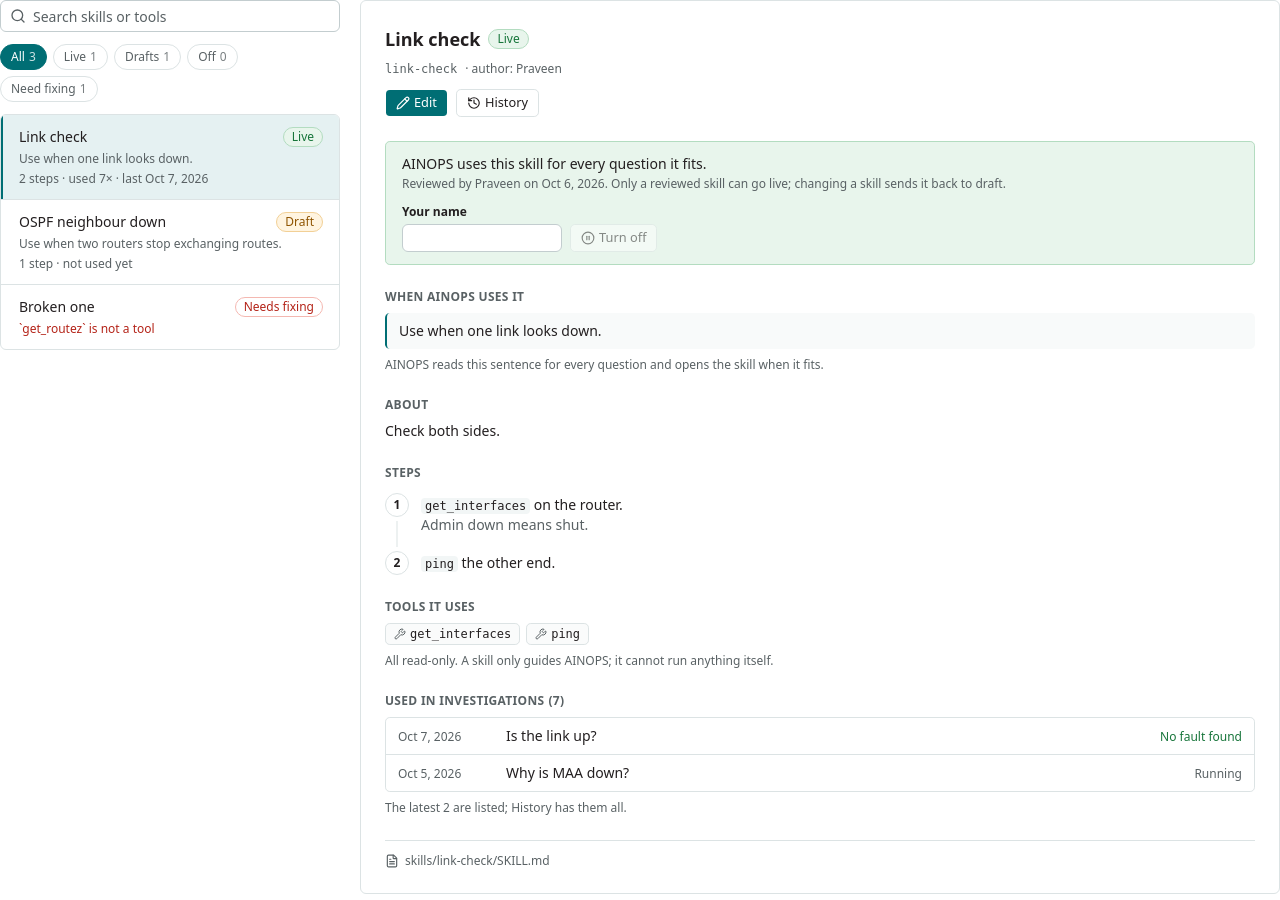
Test case: editing and history from the Skills page › History lists the replaced versions and opens one
Click the button "History".
click(497, 103)  # box [456, 89, 539, 117]
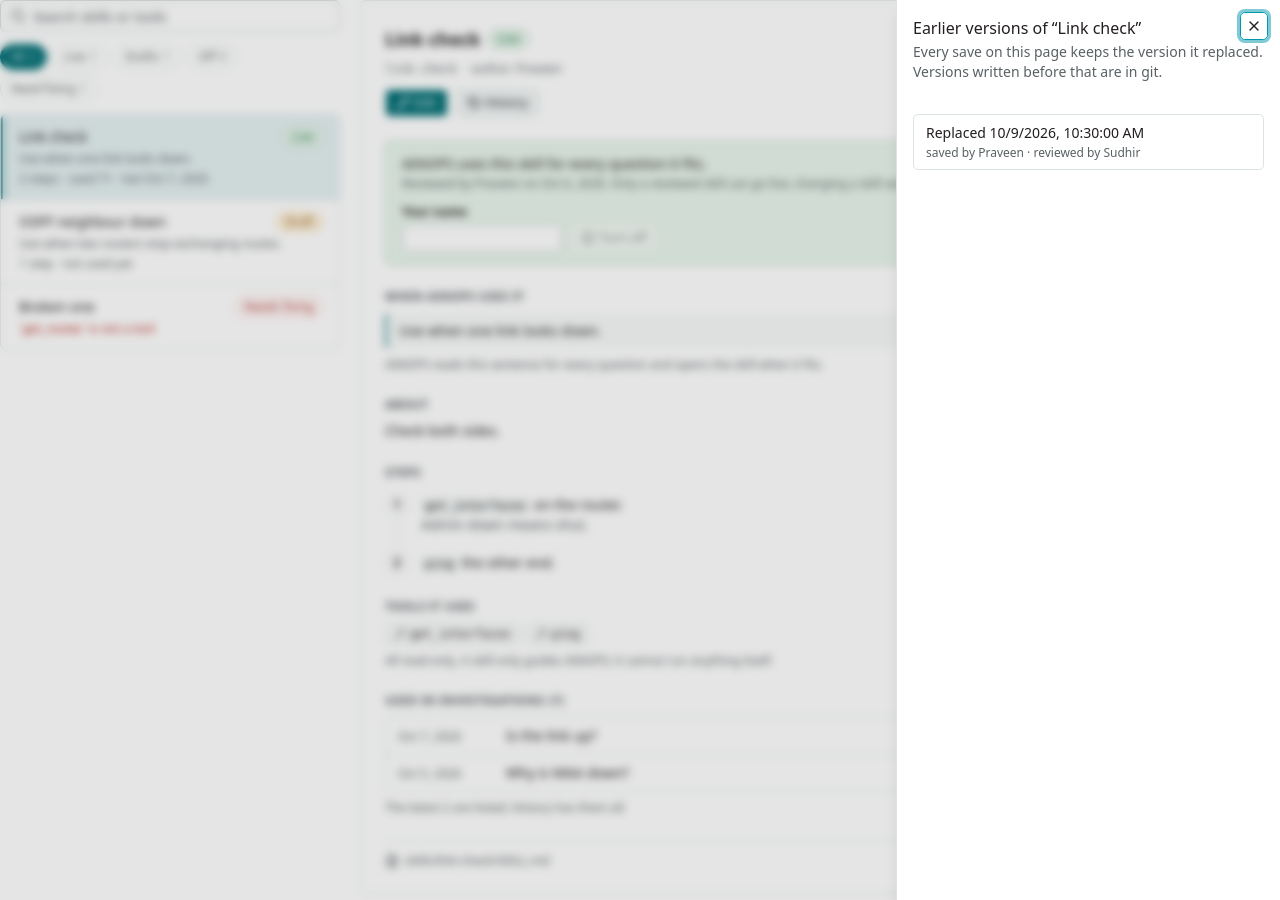
Expected: the list named "Earlier versions" shows "saved by Praveen · reviewed by Sudhir"
Click the button that starts with "Replaced".
click(1088, 142)  # box [914, 115, 1263, 169]
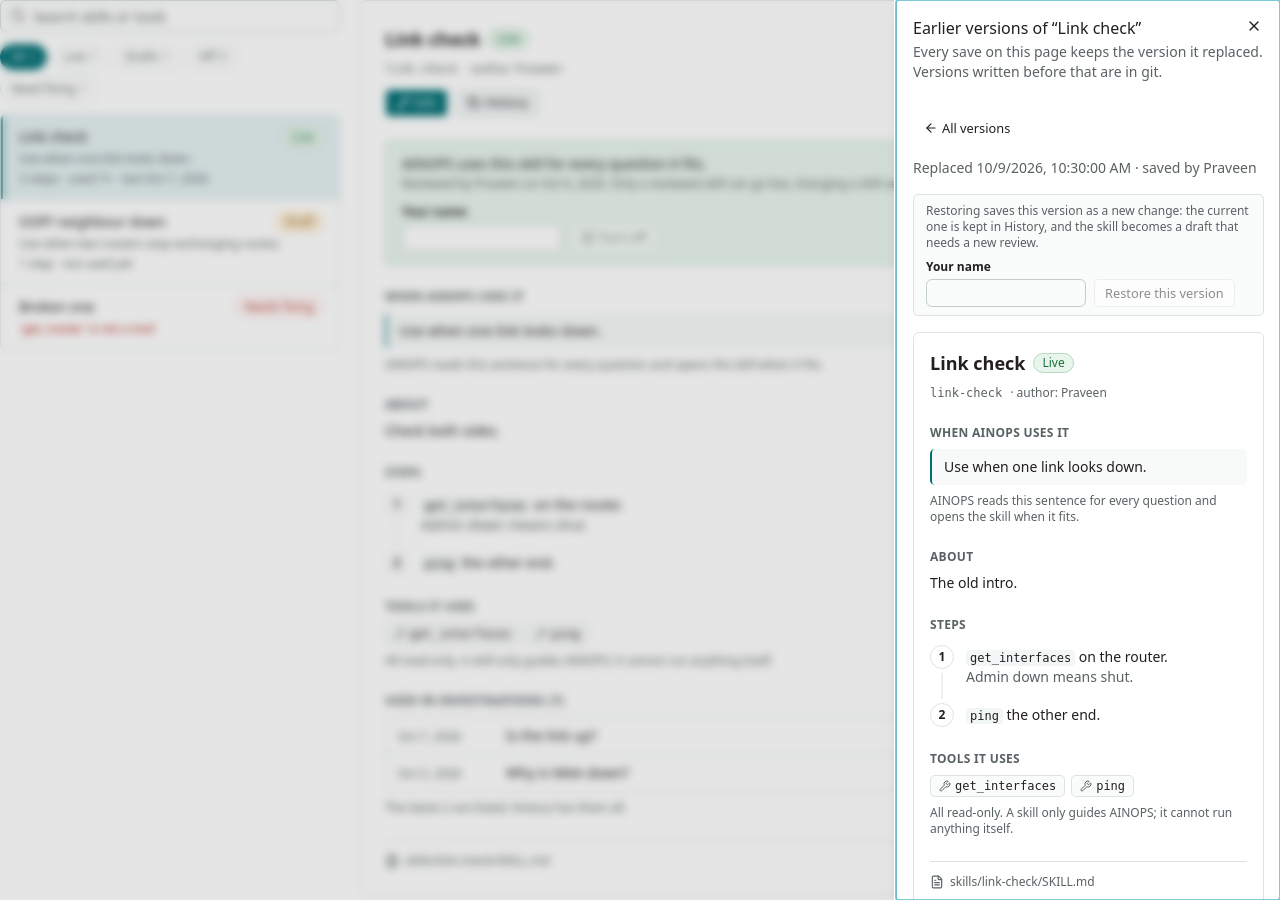
Expected: the text "The old intro." is shown, [930, 573, 1017, 592]
Click the button "All versions".
click(967, 128)  # box [913, 114, 1021, 142]
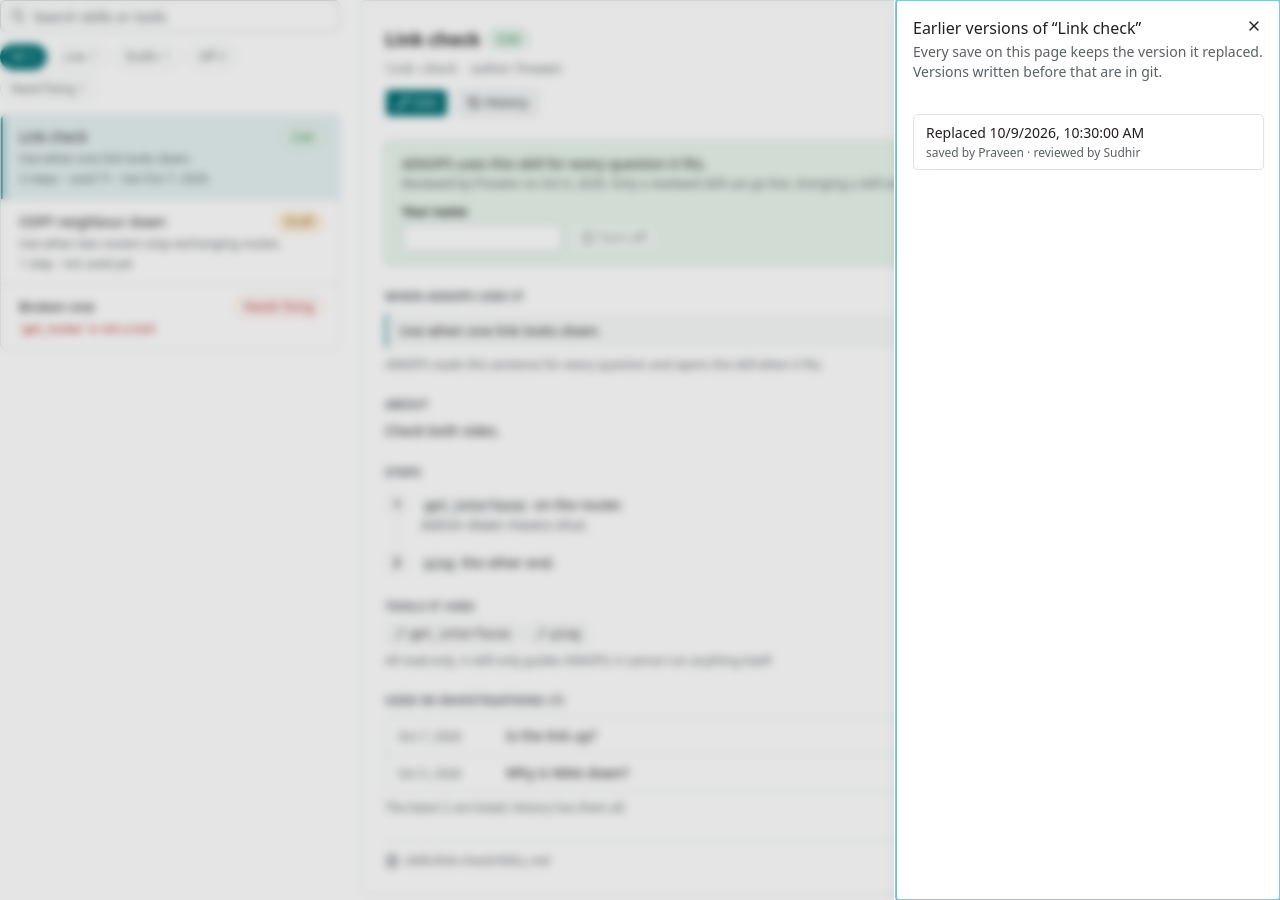
Expected: the list named "Earlier versions" is shown, [913, 114, 1264, 170]
